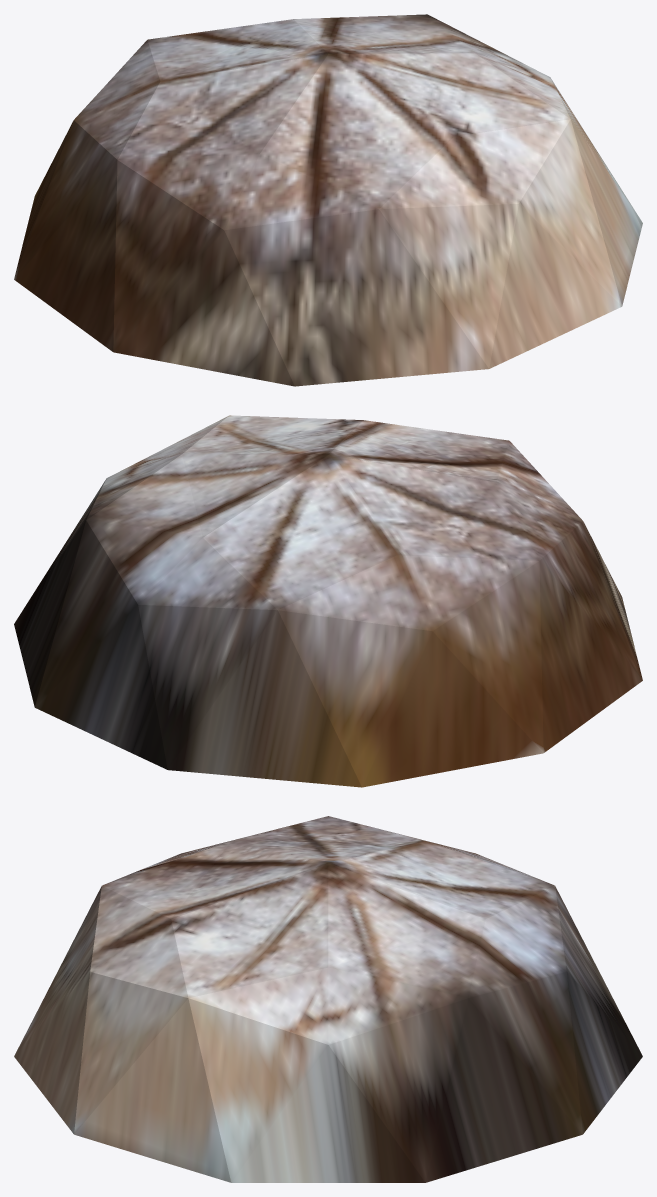
File: breadleavened.glb
The picture shows the model from 3 angles, top to bottom: view 1: azimuth 30°, elevation 25°; view 2: azimuth 150°, elevation 25°; view 3: azimuth 270°, elevation 25°; orthographic projection. The views are drawn at different scales.
Visible parts, largest first — view 1: Icosphere; view 2: Icosphere; view 3: Icosphere.
Boxes of the visible parts, box(x1,y1,x2,y2) form: Icosphere: box(14, 14, 642, 386); Icosphere: box(14, 415, 642, 787); Icosphere: box(14, 816, 642, 1182).
Size of the model in its own units: 1.9 by 0.6775 by 2.
Materials: 1 (1 with a texture image).
